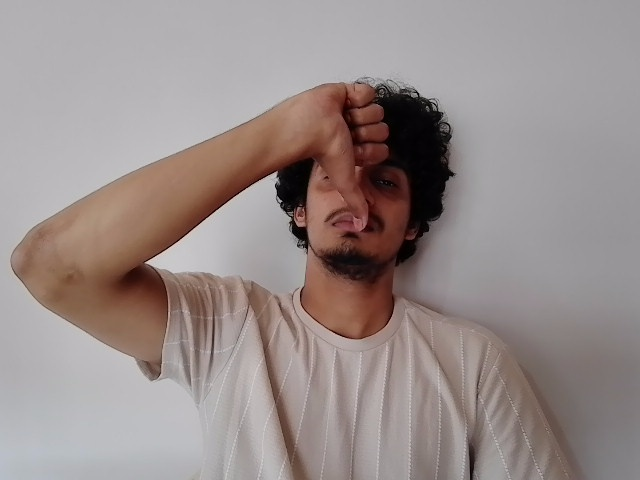drink: (293, 81, 422, 260)
